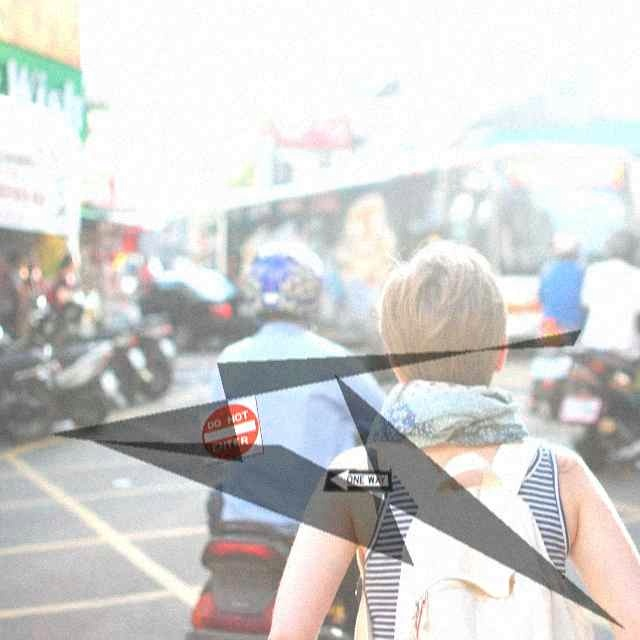DO_NOT_ENTER: (198, 395, 264, 466)
ONE_WAY_ left: (322, 468, 393, 492)
